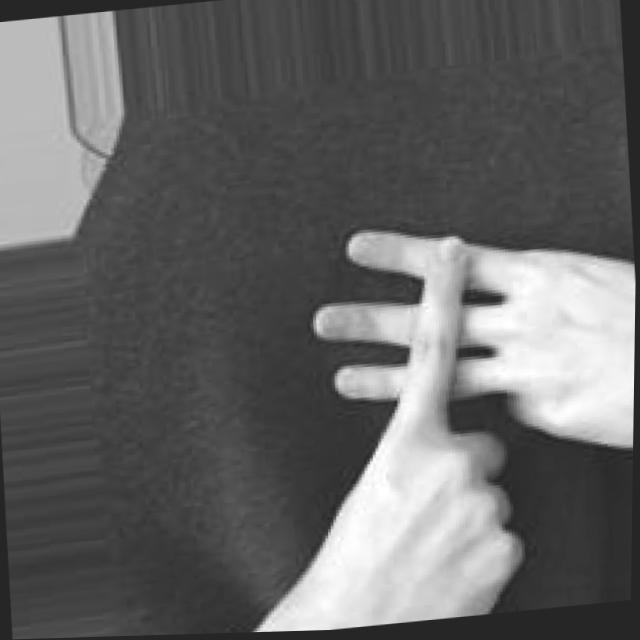E: (180, 200, 637, 634)
